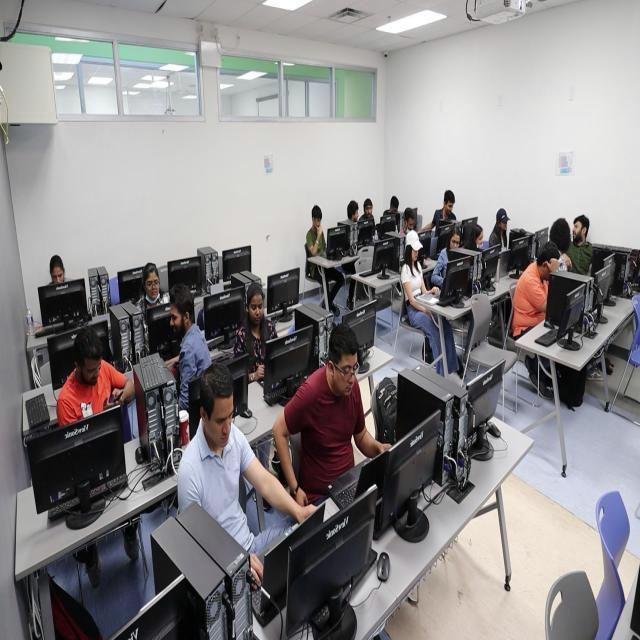Looking away: (208, 391, 234, 448), (334, 351, 359, 396), (80, 351, 102, 388), (169, 297, 186, 337), (145, 269, 160, 302), (248, 294, 264, 324), (51, 264, 64, 288), (572, 218, 584, 242), (444, 198, 454, 216), (450, 234, 460, 252), (474, 230, 484, 247), (312, 214, 322, 230), (406, 216, 414, 232), (499, 218, 508, 232), (365, 204, 373, 219), (351, 207, 359, 222), (412, 245, 419, 262)
